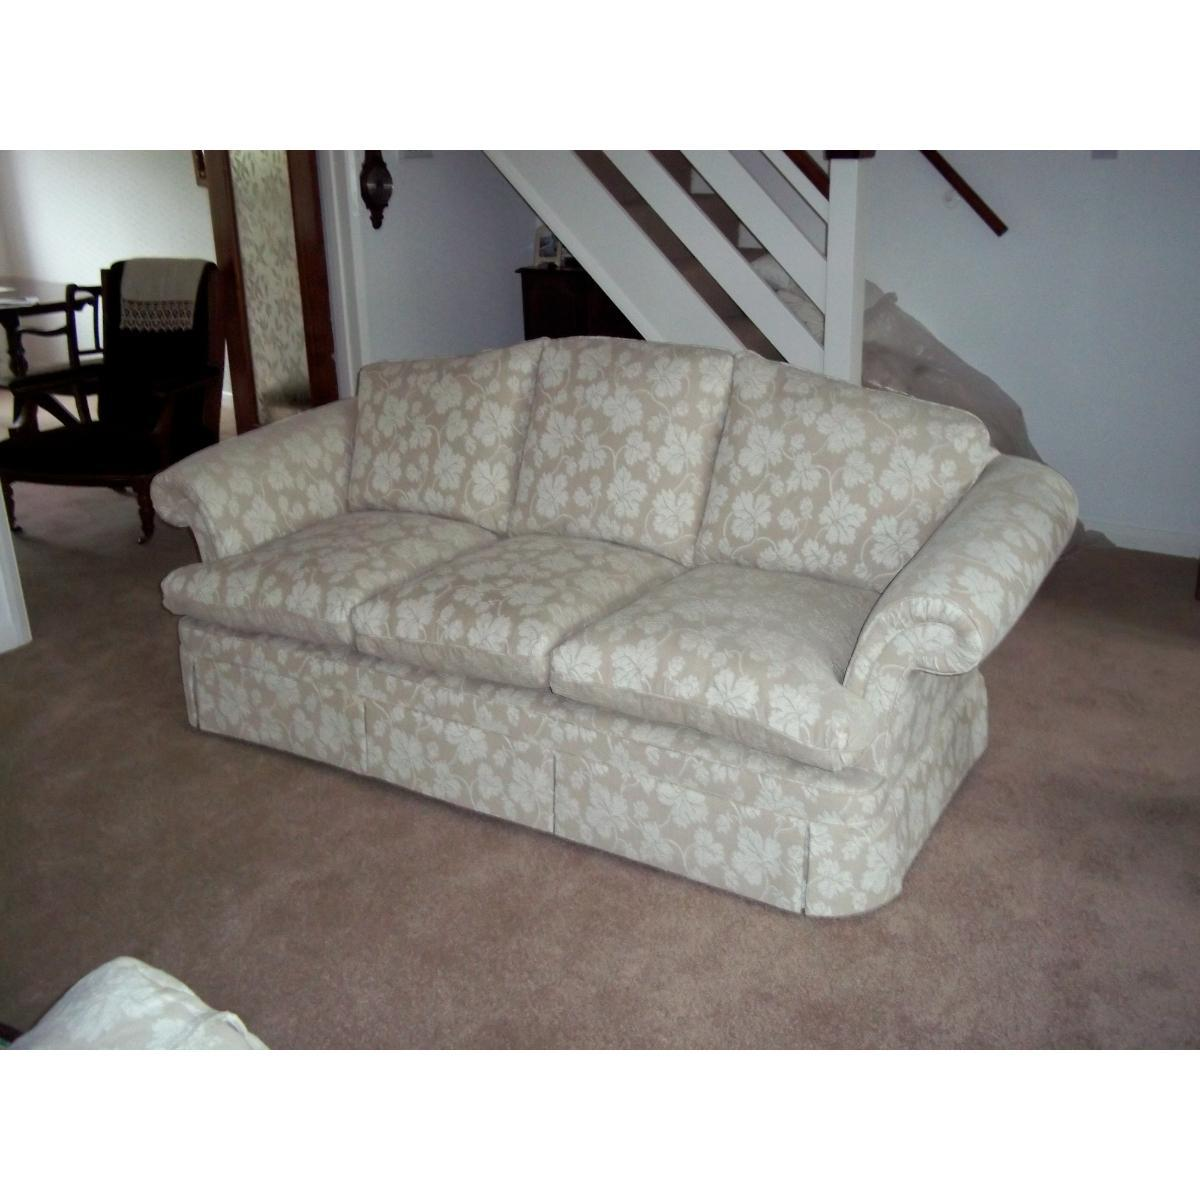Sofa: (155, 334, 1080, 920)
